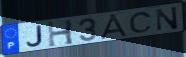3: (78, 17, 97, 42)
A: (99, 13, 131, 40)
C: (128, 11, 154, 34)
H: (46, 18, 76, 49)
J: (25, 24, 44, 48)
N: (155, 5, 179, 32)
